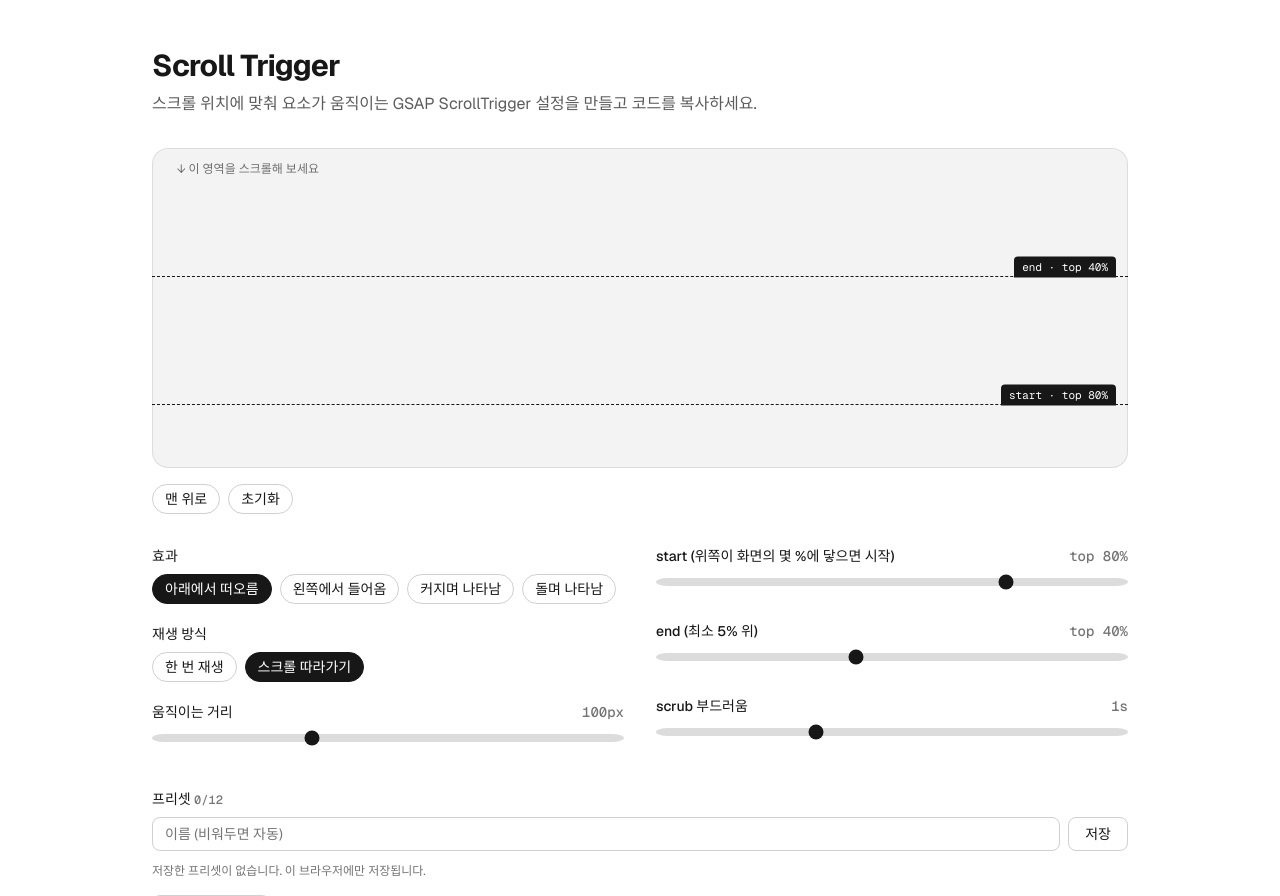
Test: ScrollTriggerPlayground › 커지며 나타남은 움직이는 거리를 쓰지 않아 슬라이더가 꺼진다
Expected: the slider labelled "움직이는 거리 100px" is enabled, [152,726,624,750]
Click the button "커지며 나타남" at (461, 589), box [407,574,514,604]
(page scrolled)
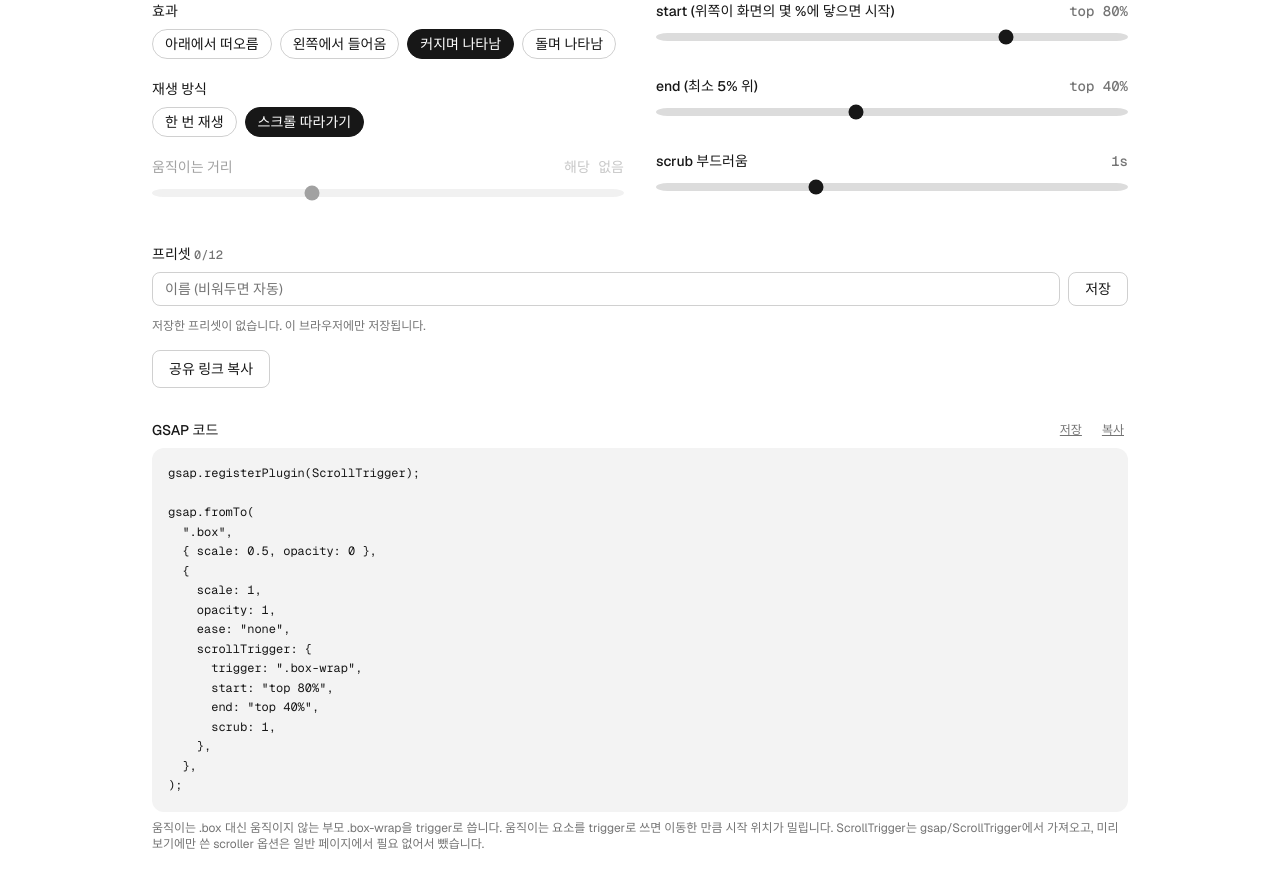
Now the slider labelled "움직이는 거리 해당 없음" is disabled, box [152,181,624,205]
Now the text named "GSAP 코드" shows "{ scale: 0.5, opacity: 0 }", box [168,465,420,793]
